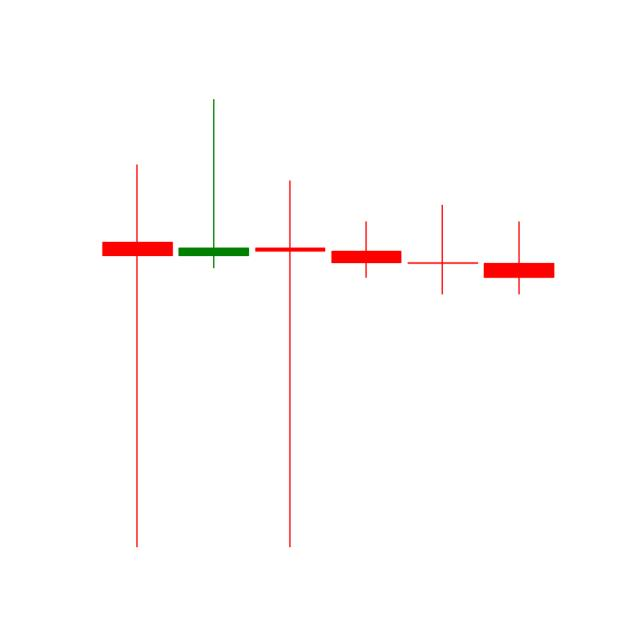Long-Legged Doji: (98, 160, 175, 553), (252, 173, 329, 559)
Standard Doji: (408, 194, 480, 301)
